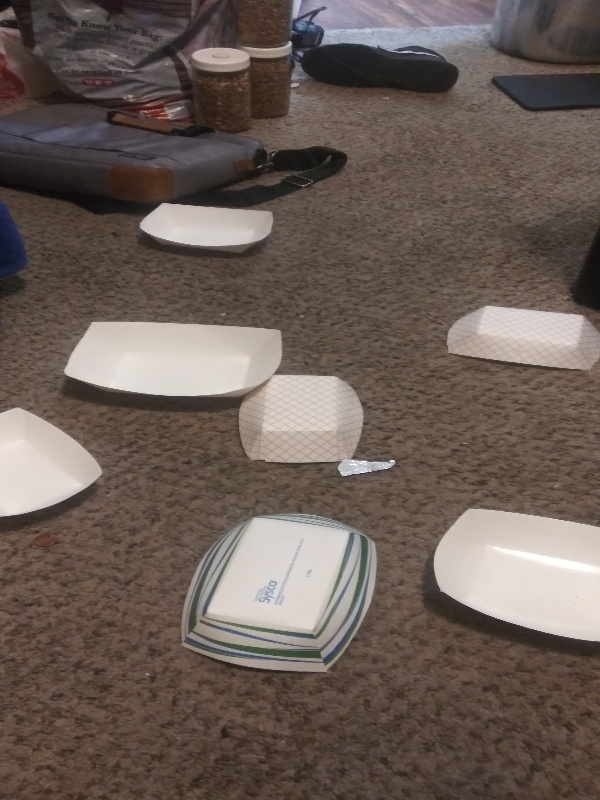plate: (179, 508, 383, 680), (425, 498, 600, 659), (57, 313, 287, 401), (1, 405, 111, 530), (233, 371, 369, 470), (438, 300, 600, 376), (132, 195, 281, 263)
